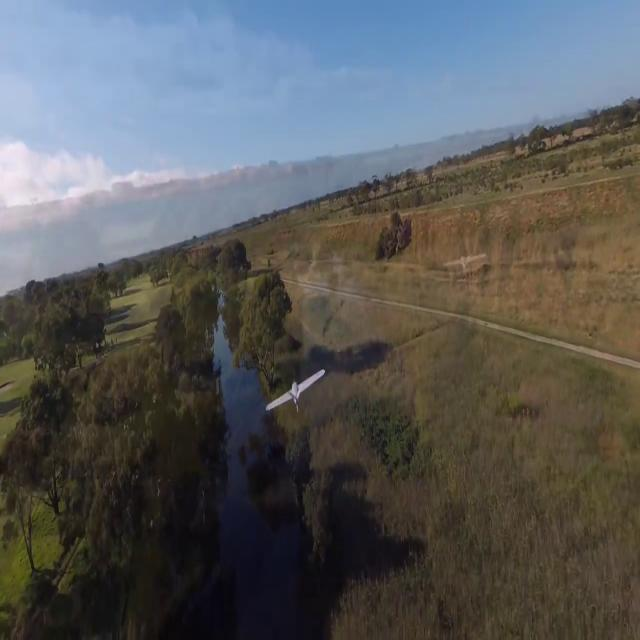iha: (265, 364, 324, 409)
